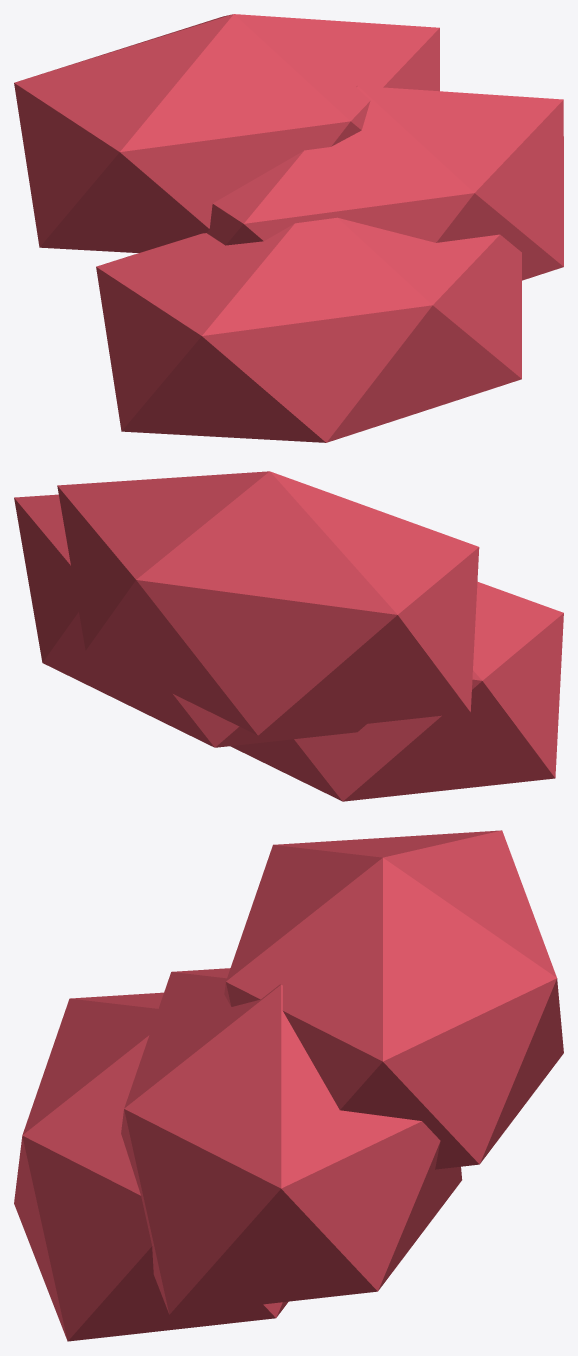
Rendered from item_026_dried_berries_m.glb.
3 renders of one model, top to bottom at view 1: azimuth 30°, elevation 25°; view 2: azimuth 150°, elevation 25°; view 3: azimuth 270°, elevation 25°, orthographic. The views are drawn at different scales.
Parts seen in each view (by area): view 1: item_026_dried_berries_m; view 2: item_026_dried_berries_m; view 3: item_026_dried_berries_m.
Boxes of the visible parts, x1=… form: item_026_dried_berries_m: x1=14, y1=14, x2=563, y2=442; item_026_dried_berries_m: x1=14, y1=471, x2=563, y2=801; item_026_dried_berries_m: x1=14, y1=830, x2=563, y2=1341.
Size of the model in its own units: 0.4083 by 0.2923 by 0.3243.
